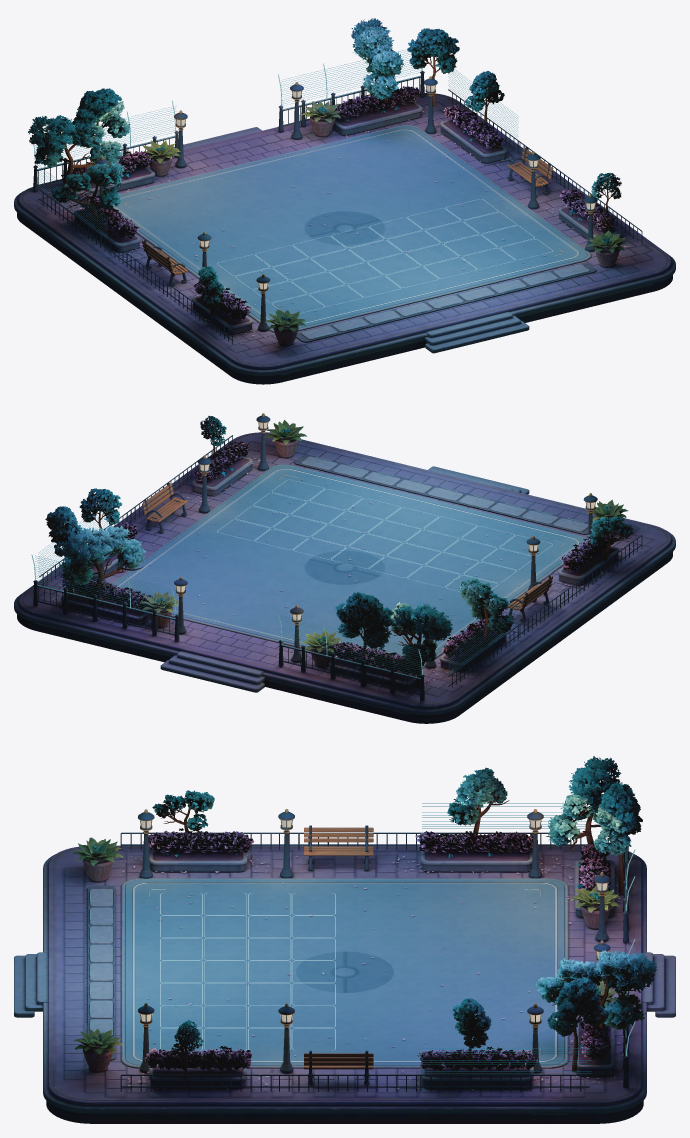
Rendered from MoonlitCourt.glb.
3 renders of one model, top to bottom at view 1: azimuth 30°, elevation 25°; view 2: azimuth 150°, elevation 25°; view 3: azimuth 270°, elevation 25°, orthographic. The views are drawn at different scales.
Visible parts, largest first — view 1: Court, Promenade, GardenEast, GardenWest, Lanterns, Furniture, Details, Placement; view 2: Court, Promenade, GardenEast, GardenWest, Lanterns, Furniture, Details, Placement; view 3: Court, Promenade, GardenEast, GardenWest, Lanterns, Furniture, Details, Placement.
Boxes of the visible parts, x1,y1,x2,y2 form: Court: (113,125,591,332); Promenade: (14,93,675,384); GardenEast: (61,18,627,334); GardenWest: (28,88,306,331); Lanterns: (33,71,642,344); Furniture: (142,113,619,345); Details: (31,50,629,343); Placement: (163,150,552,313); Court: (111,464,587,668); Promenade: (14,432,675,723); GardenEast: (45,416,619,690); GardenWest: (302,499,633,687); Lanterns: (33,413,642,700); Furniture: (142,435,618,666); Details: (31,446,632,694); Placement: (181,479,552,616); Court: (121,878,568,1068); Promenade: (14,845,675,1123); GardenEast: (73,847,656,1088); GardenWest: (72,756,642,912); Lanterns: (120,809,628,1091); Furniture: (83,825,611,1084); Details: (122,793,635,1090); Placement: (160,893,508,1050).
Size of what is drawn, in the model's own units: 30.5 by 6.99 by 31.8.
Materials: 8 (8 with a texture image).
